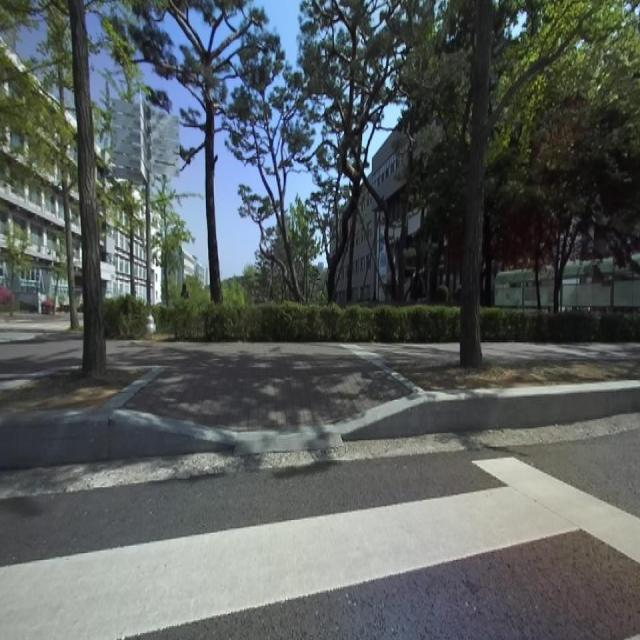sidewalk: (0, 379, 640, 441), (106, 340, 460, 431), (484, 344, 640, 364)
